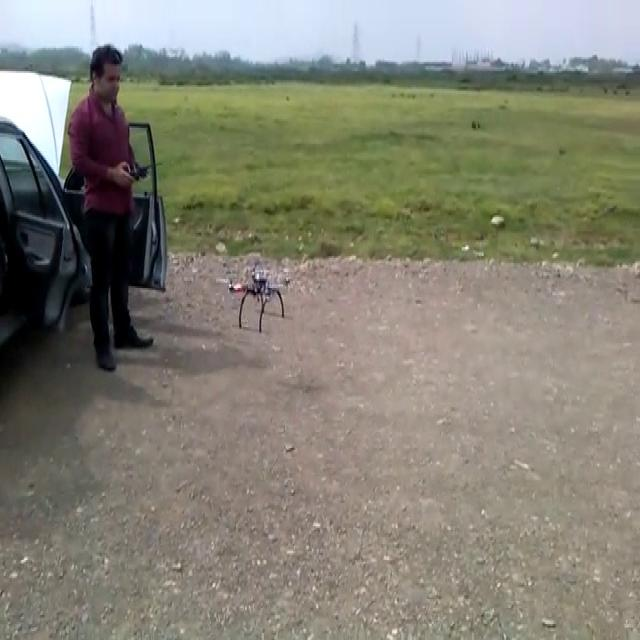drone: (225, 262, 294, 334)
